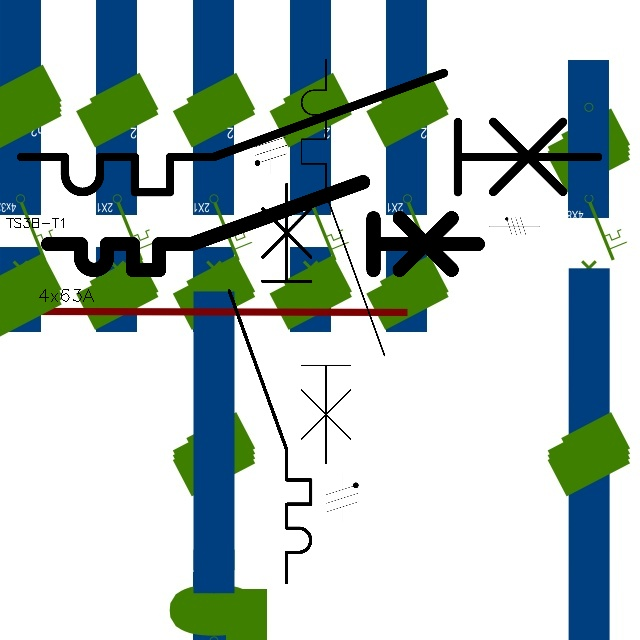interruptor_termomagnetico: (6, 58, 613, 207), (37, 171, 488, 281), (291, 49, 395, 473), (219, 174, 321, 592)
